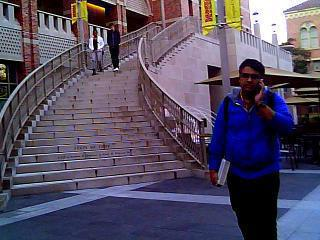Escaleras: (0, 65, 210, 190), (89, 31, 192, 68)
